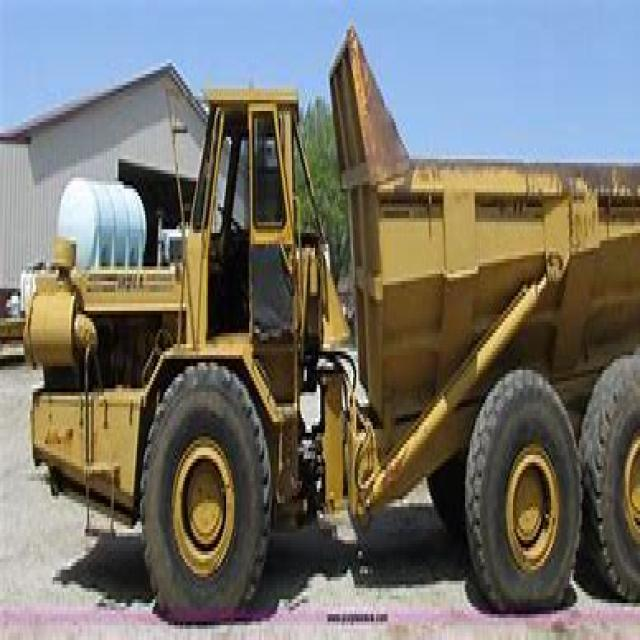dump_truck: (26, 22, 638, 625)
